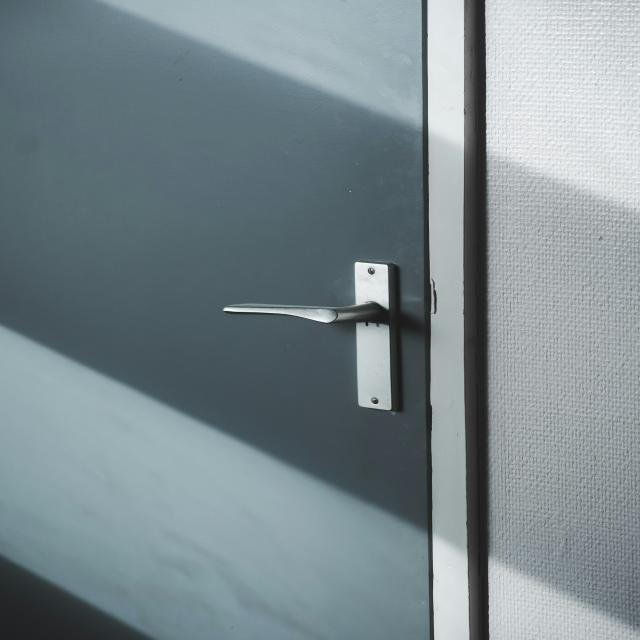door-handle: (223, 301, 384, 324)
